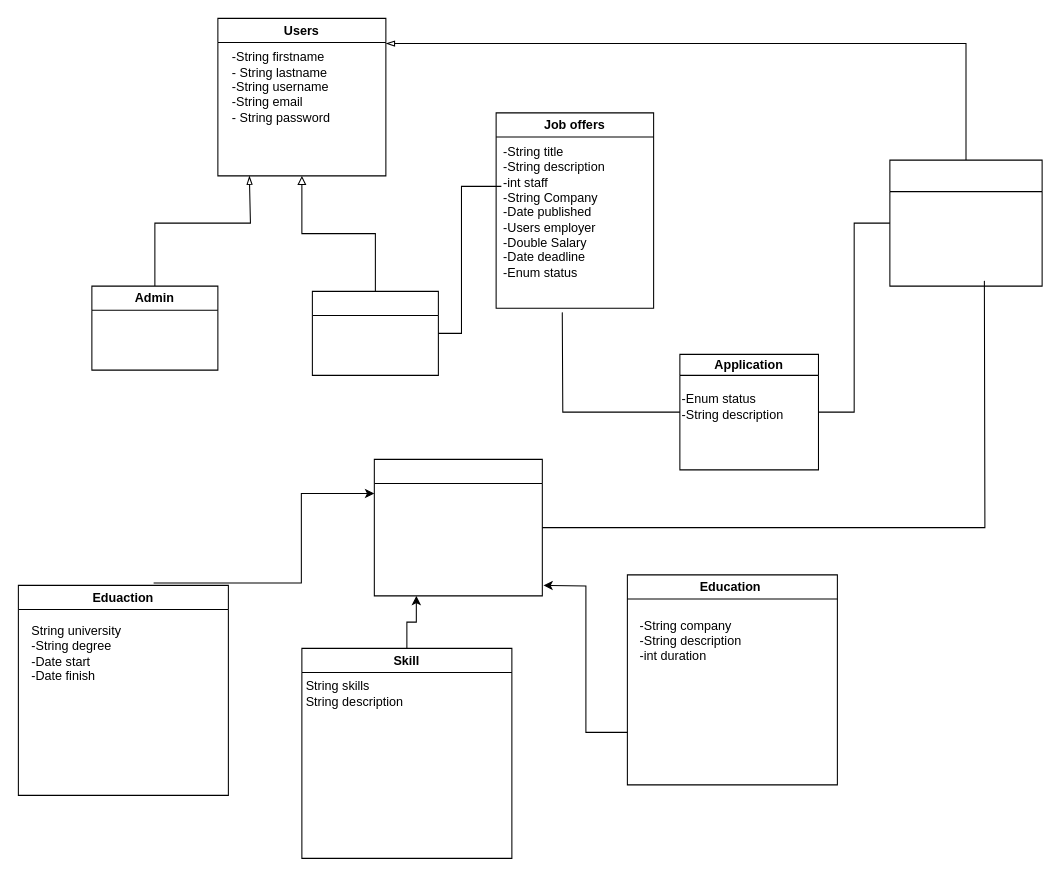
Image size: 1061x877. Some labels were removed from this diagram. The centre of each missing label's shape, as x and y in pixels:
"Candidates" belongs at (965,222).
"Employer" belongs at (374,332).
"Resume" belongs at (457,527).
